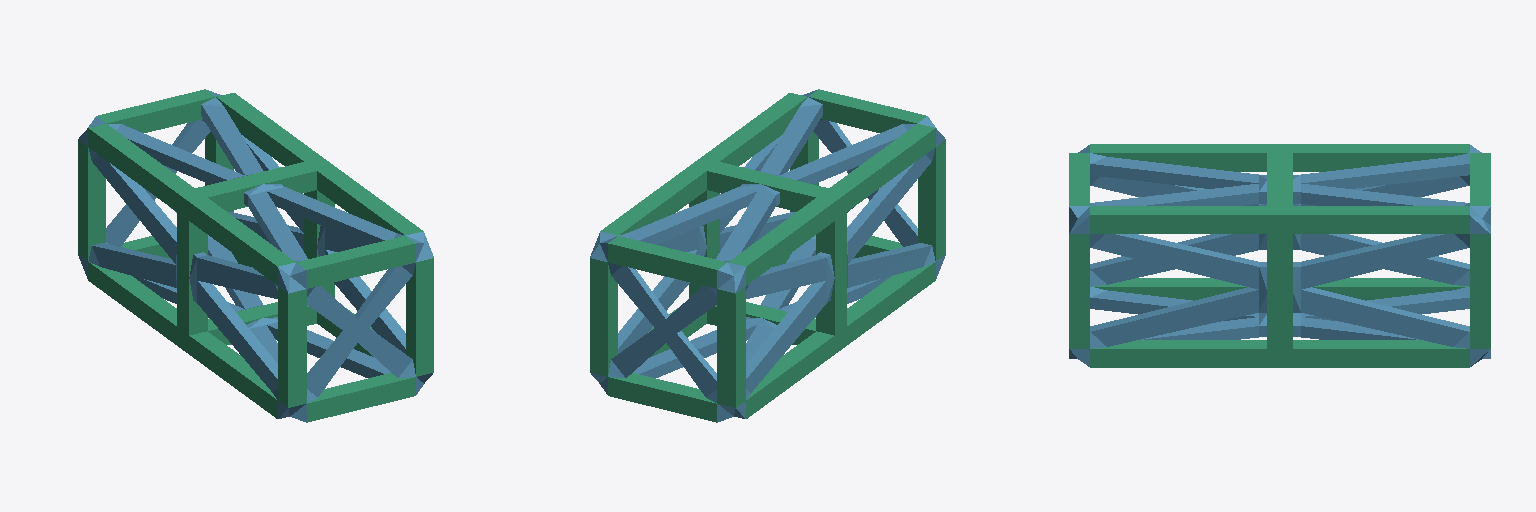
Rendered from Pillar.obj.
The picture shows the model from 3 angles: view 1: azimuth 30°, elevation 25°; view 2: azimuth 150°, elevation 25°; view 3: azimuth 270°, elevation 25°; orthographic projection.
Bounding box in the file's own units: 2 × 2 × 5.